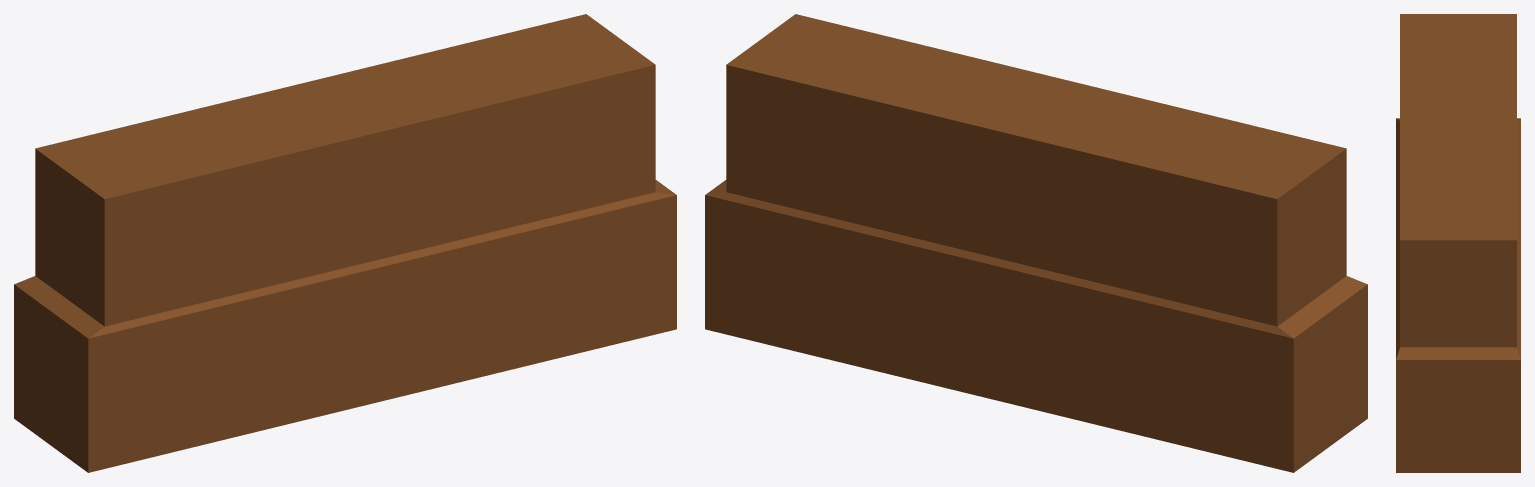
The model's file is structure1.fbx.
The picture shows the model from 3 angles, left to right: view 1: azimuth 30°, elevation 25°; view 2: azimuth 150°, elevation 25°; view 3: azimuth 270°, elevation 25°; orthographic projection. The views are drawn at different scales.
Visible parts, largest first — view 1: Cube; view 2: Cube; view 3: Cube.
Boxes of the visible parts, left/top/right/bottom form: Cube: left=14, top=14, right=676, bottom=472; Cube: left=705, top=14, right=1367, bottom=472; Cube: left=1396, top=14, right=1520, bottom=472.
Size of the model in its own units: 881 by 382 by 192.
